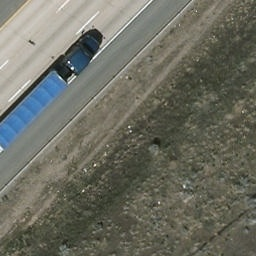car: (61, 0, 97, 2)
truck: (0, 34, 101, 153)
